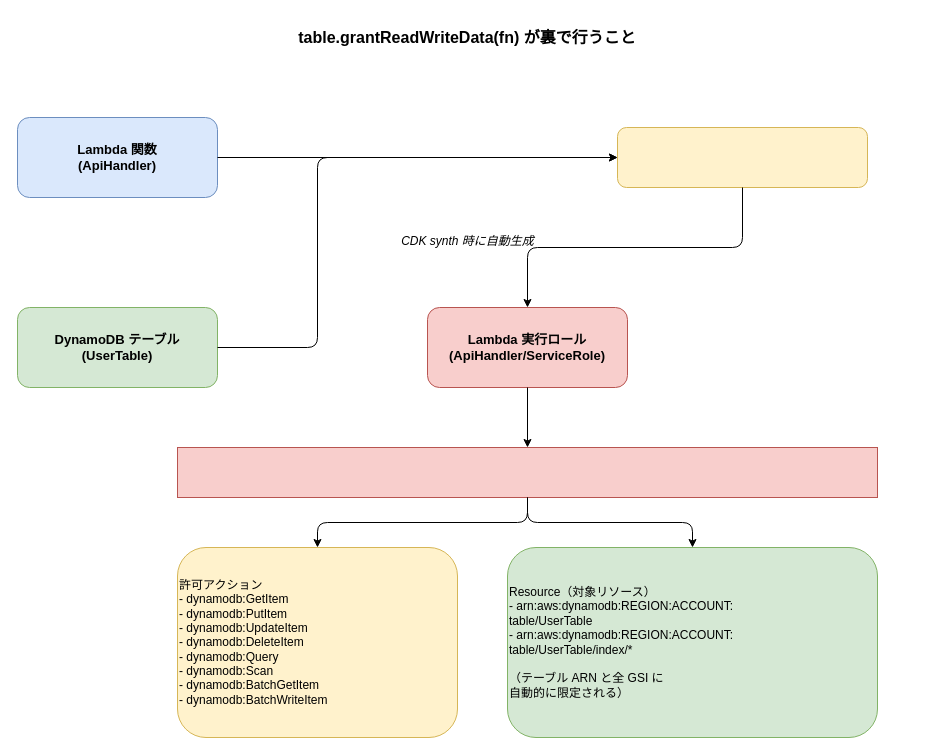
Image size: 935x755. Some labels were removed from this diagram. Each missing label, with the box of its shape:
table.grantReadWriteData(fn) （CDK コード上の 1 行）: (616, 126, 868, 188)
インライン IAM ポリシー: (176, 446, 878, 498)
